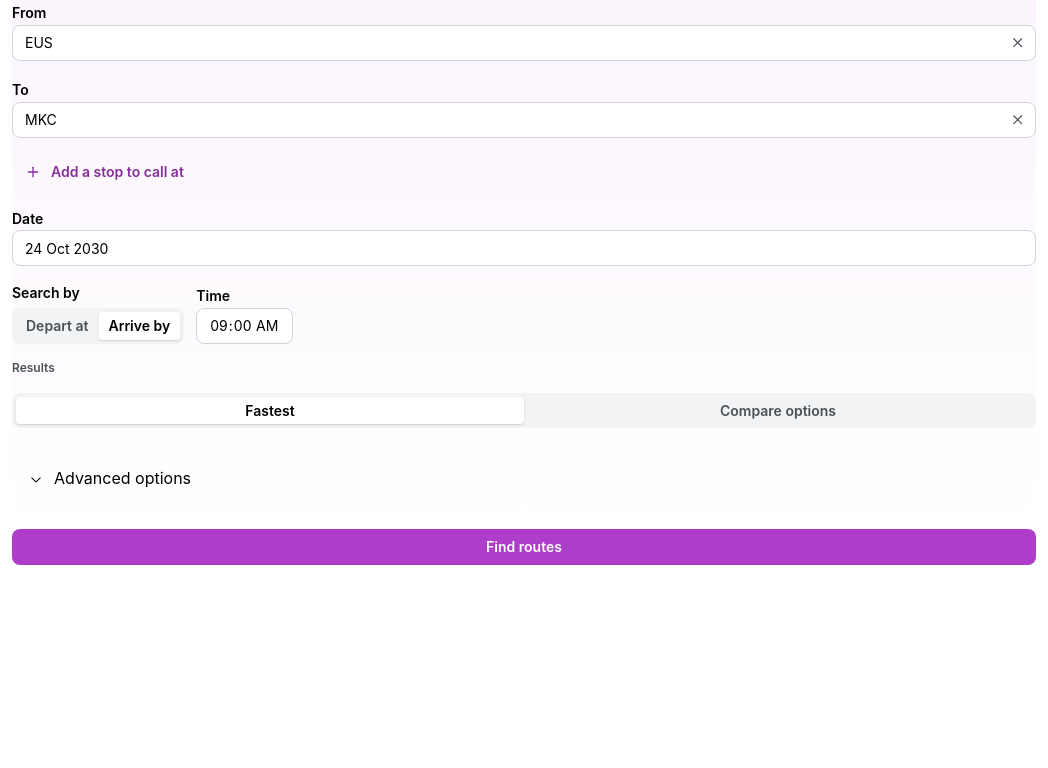
Test: PlanTripFlow arrive-by and paging (2026-10-19) › plans by arrival time and says so above the results
Step 1. Click the button "Find routes" → (524, 547), box [12,529,1036,565]
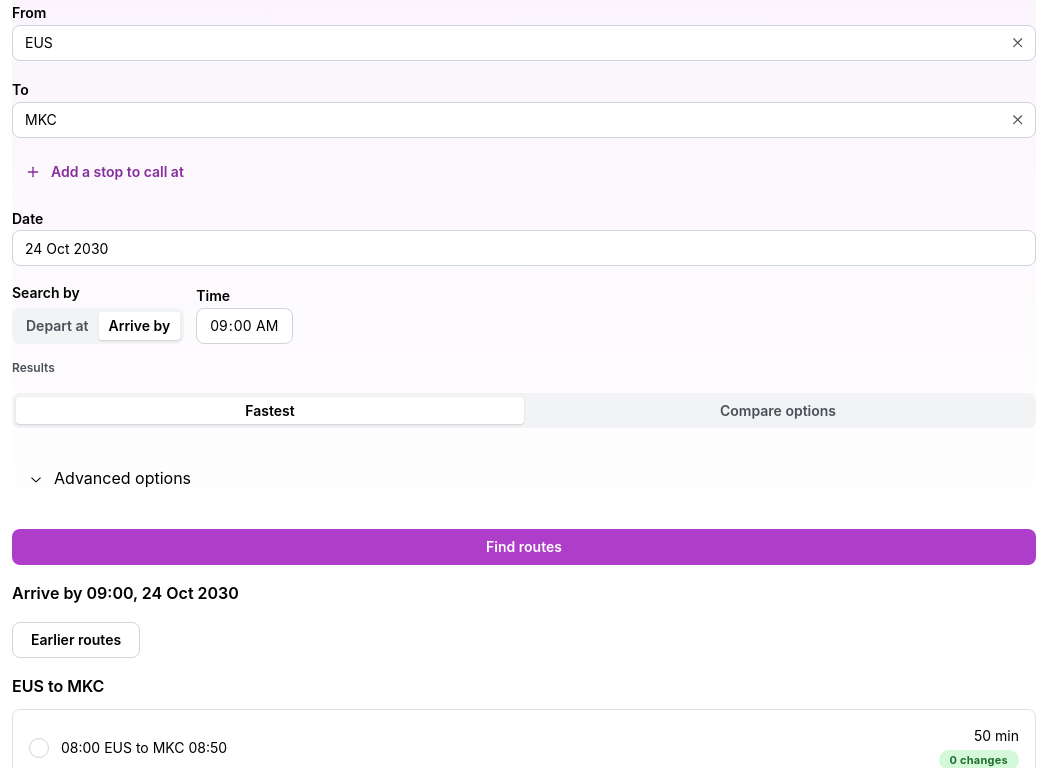
Now the text "Arrive by 09:00, 24 Oct 2030" is shown, box [12,583,239,603]
